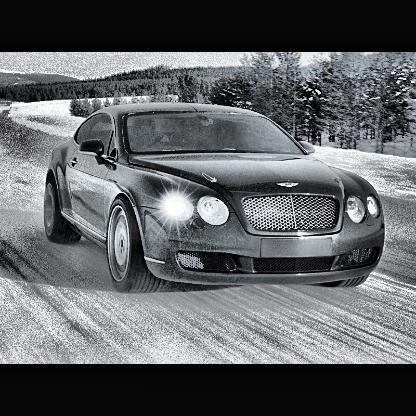Bentley Continental GT Coupe 2007: (42, 99, 389, 295)
